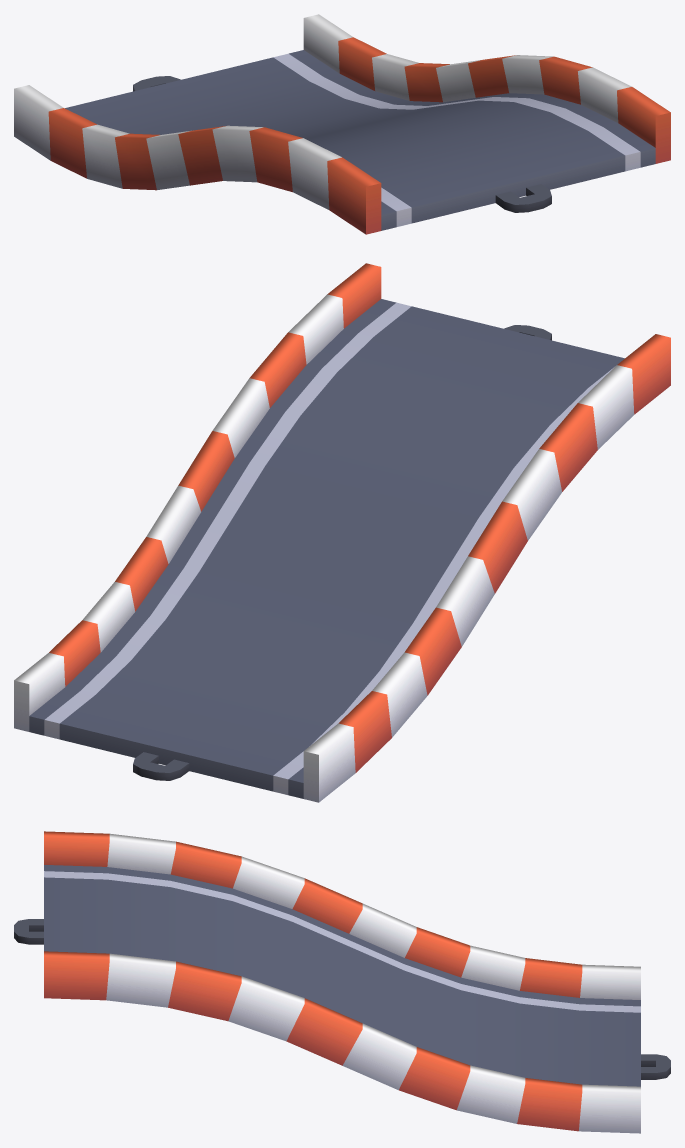
File: kenney-toy-car-track-road-wide-straight-hill-complete.glb
3 renders of one model, top to bottom at view 1: azimuth 30°, elevation 25°; view 2: azimuth 150°, elevation 25°; view 3: azimuth 270°, elevation 25°, orthographic. The views are drawn at different scales.
Visible parts, largest first — view 1: track-road-wide-straight-hill-complete; view 2: track-road-wide-straight-hill-complete; view 3: track-road-wide-straight-hill-complete.
Part boxes in pixels (left/top/right/bottom): track-road-wide-straight-hill-complete: left=14, top=14, right=670, bottom=234; track-road-wide-straight-hill-complete: left=14, top=263, right=670, bottom=802; track-road-wide-straight-hill-complete: left=14, top=831, right=670, bottom=1133.
Size of the model in its own units: 2 by 1.3 by 4.4.
Materials: 1 (1 with a texture image).
